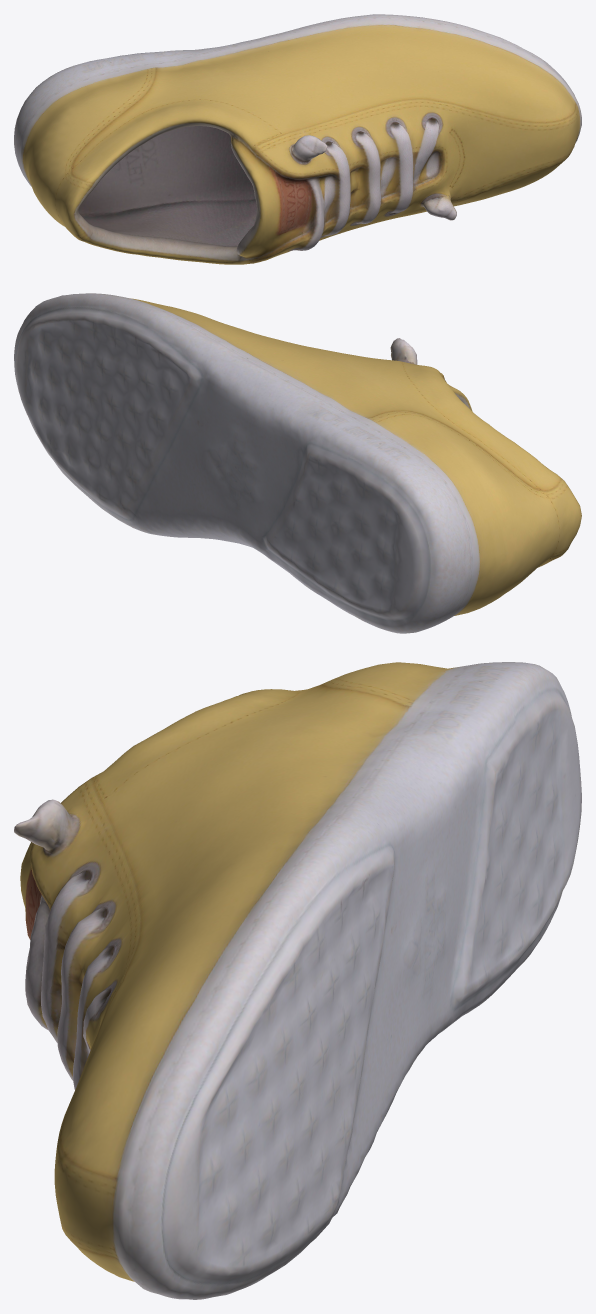
The picture shows the model from 3 angles, top to bottom: view 1: azimuth 30°, elevation 25°; view 2: azimuth 150°, elevation 25°; view 3: azimuth 270°, elevation 25°; orthographic projection. The views are drawn at different scales.
Visible parts, largest first — view 1: mmGroup0; view 2: mmGroup0; view 3: mmGroup0.
Part boxes in pixels (x1=…): mmGroup0: x1=14, y1=14, x2=581, y2=264; mmGroup0: x1=14, y1=293, x2=581, y2=633; mmGroup0: x1=14, y1=662, x2=581, y2=1299.
Bounding box in the file's own units: 359 × 130 × 181.
